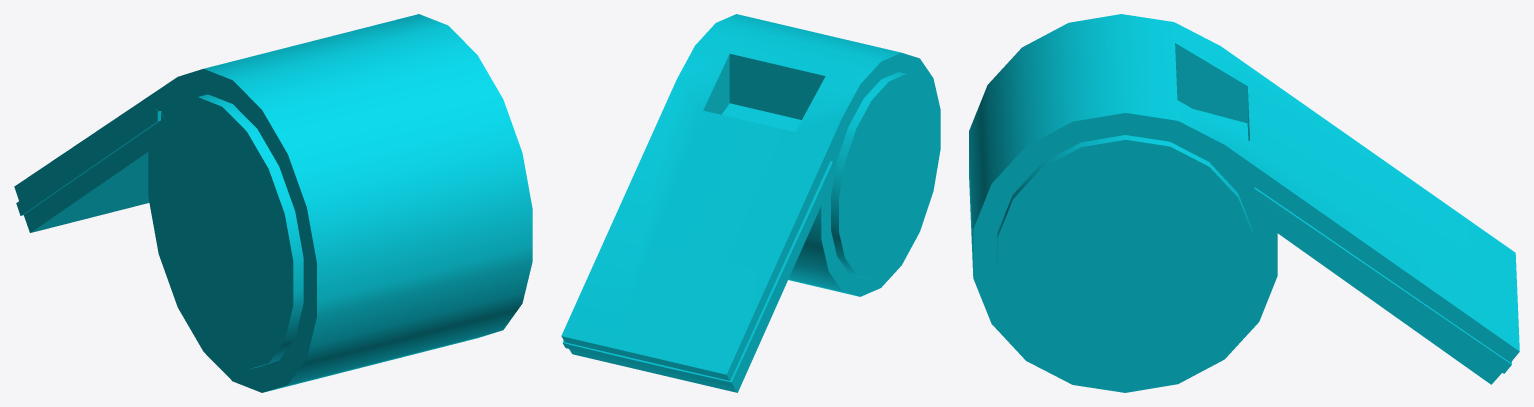
File: whistle.glb
3 renders of one model, left to right at view 1: azimuth 30°, elevation 25°; view 2: azimuth 150°, elevation 25°; view 3: azimuth 270°, elevation 25°, orthographic. The views are drawn at different scales.
Visible parts, largest first — view 1: Cylinder001; view 2: Cylinder001; view 3: Cylinder001.
Boxes of the visible parts, x1,y1,x2,y2 form: Cylinder001: (14, 14, 532, 392); Cylinder001: (561, 14, 940, 392); Cylinder001: (969, 14, 1519, 392).
Bounding box in the file's own units: 216049 × 255830 × 455790.
